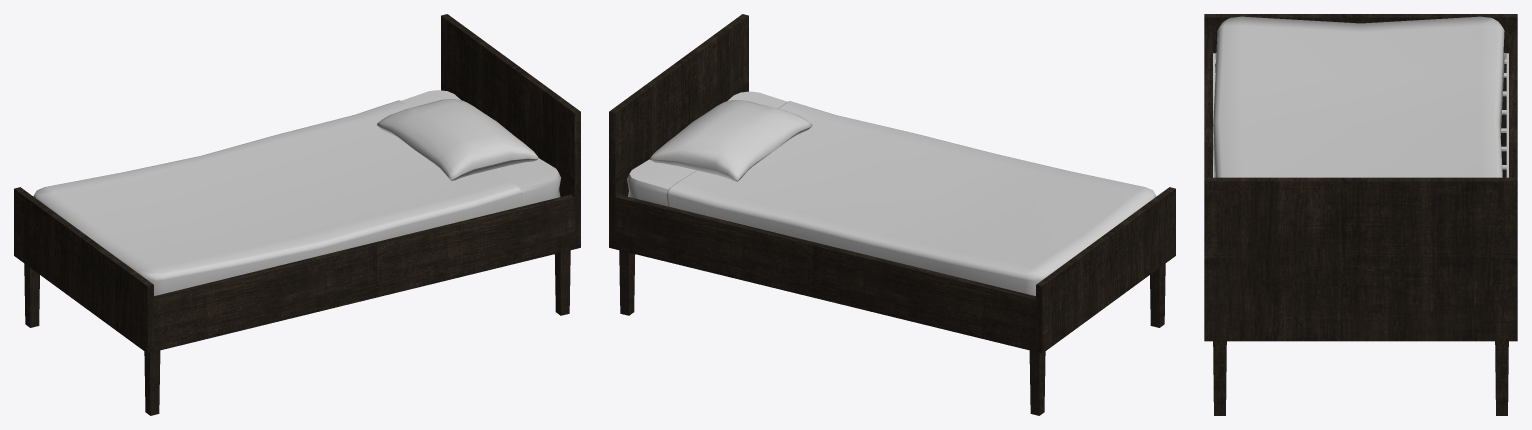
File: bed_3_b_2_made.fbx
3 renders of one model, left to right at view 1: azimuth 30°, elevation 25°; view 2: azimuth 150°, elevation 25°; view 3: azimuth 270°, elevation 25°, orthographic. The views are drawn at different scales.
Parts seen in each view (by area): view 1: bed_3_b_2_made; view 2: bed_3_b_2_made; view 3: bed_3_b_2_made.
Part boxes in pixels (<box>): bed_3_b_2_made: <box>14,14,580,415</box>; bed_3_b_2_made: <box>609,14,1175,415</box>; bed_3_b_2_made: <box>1204,14,1517,415</box>.
Size of the model in its own units: 2.7 by 1.44 by 1.21.
